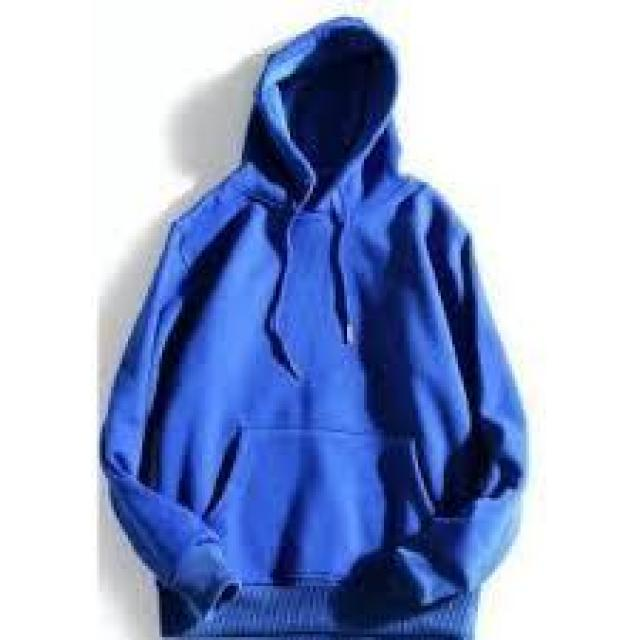sweater: (116, 25, 517, 640)
